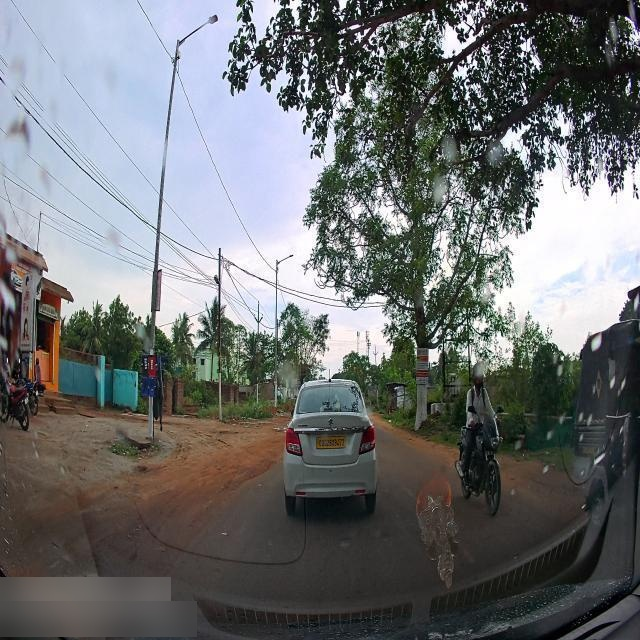pothole: (26, 561, 120, 586)
